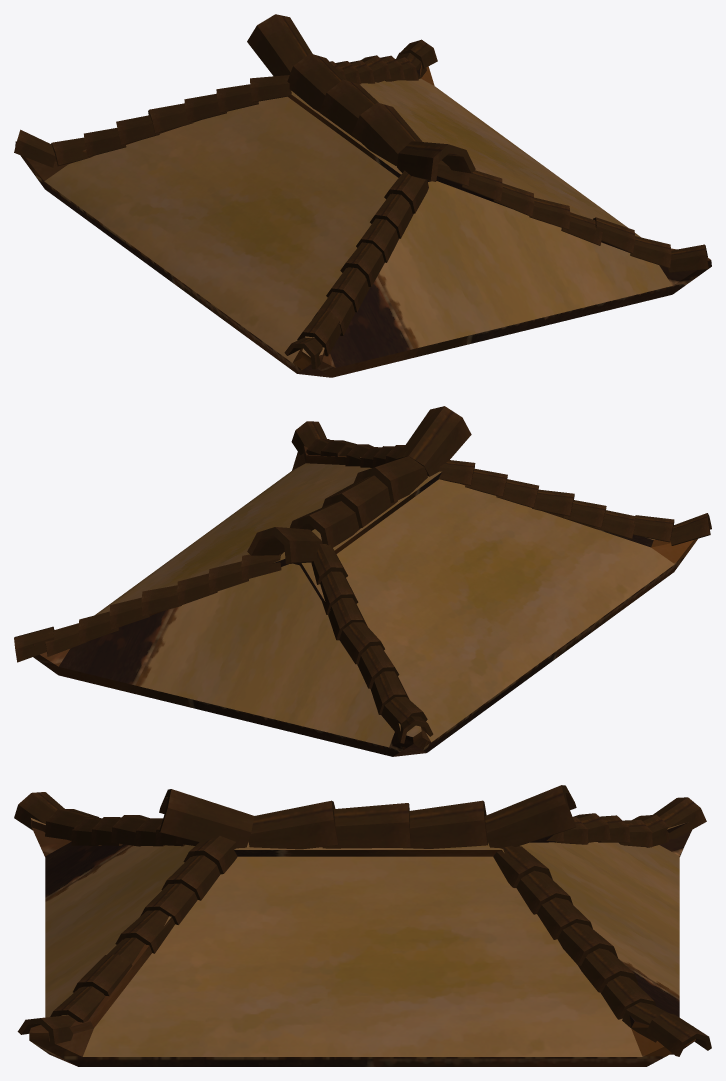
Rendered from roof.fbx.
3 views of the same model, one above another, from view 1: azimuth 30°, elevation 25°; view 2: azimuth 150°, elevation 25°; view 3: azimuth 270°, elevation 25° (orthographic). The views are drawn at different scales.
Parts seen in each view (by area): view 1: polySurface720; view 2: polySurface720; view 3: polySurface720.
Part boxes in pixels (x1=…): polySurface720: x1=14, y1=14, x2=711, y2=377; polySurface720: x1=14, y1=406, x2=711, y2=756; polySurface720: x1=14, y1=785, x2=711, y2=1066.
Bounding box in the file's own units: 87.61 × 30.32 × 109.
